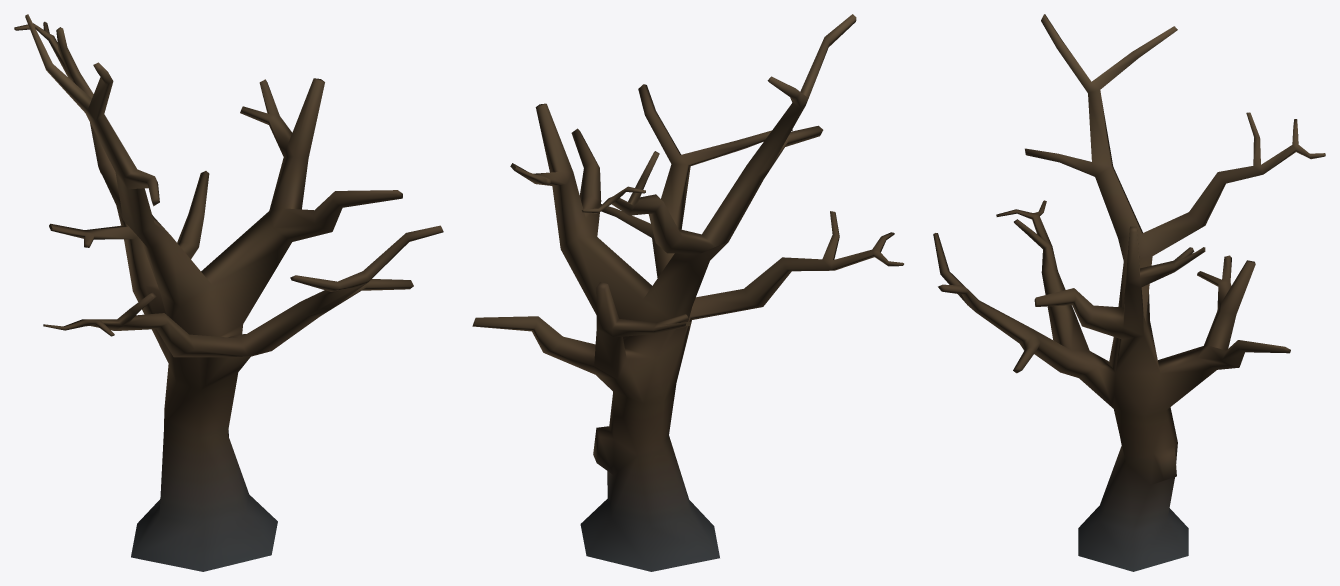
Rendered from deco_winter_treeDeadB.FBX.
3 renders of one model, left to right at view 1: azimuth 30°, elevation 25°; view 2: azimuth 150°, elevation 25°; view 3: azimuth 270°, elevation 25°, orthographic. The views are drawn at different scales.
Parts seen in each view (by area): view 1: deco_winter_treeDeadB; view 2: deco_winter_treeDeadB; view 3: deco_winter_treeDeadB.
Part boxes in pixels (x1,y1,x2,y2): deco_winter_treeDeadB: (14,14,443,571); deco_winter_treeDeadB: (472,14,903,571); deco_winter_treeDeadB: (933,14,1325,571).
Bounding box in the file's own units: 4.36 × 6.52 × 5.01.
1 material, 1 textured.
